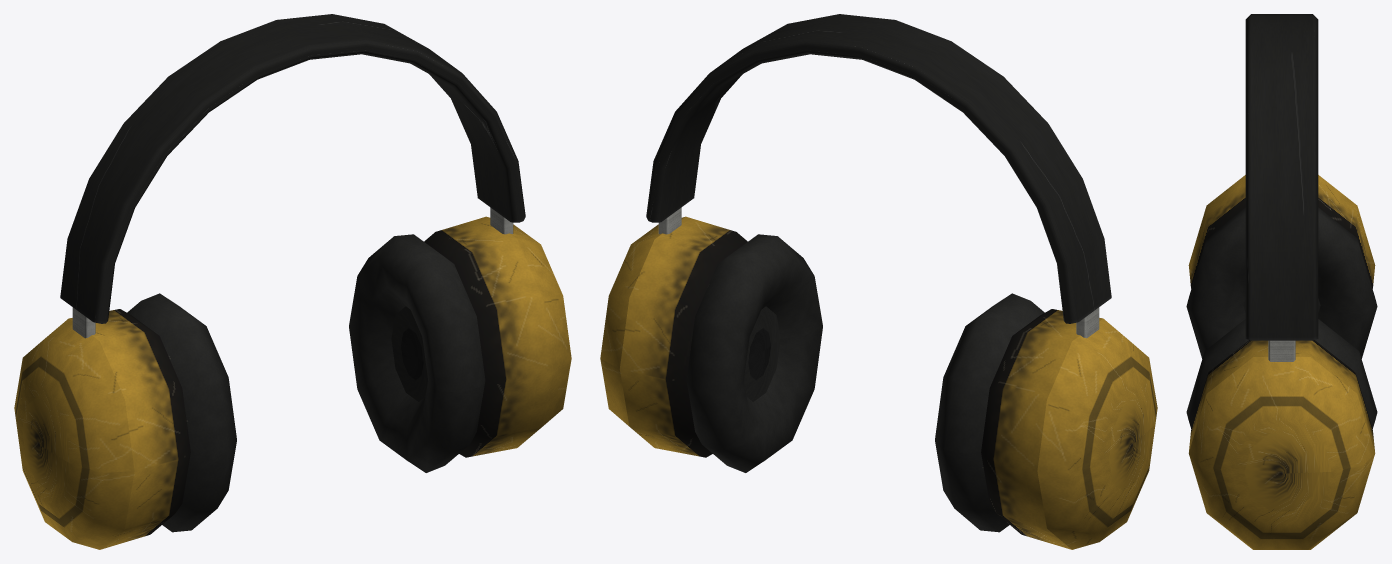
File: work-headphones.obj
3 views of the same model, side by side, from view 1: azimuth 30°, elevation 25°; view 2: azimuth 150°, elevation 25°; view 3: azimuth 270°, elevation 25° (orthographic). The views are drawn at different scales.
Size of the model in its own units: 0.238 by 0.2054 by 0.084.
Materials: 1 (1 with a texture image).
